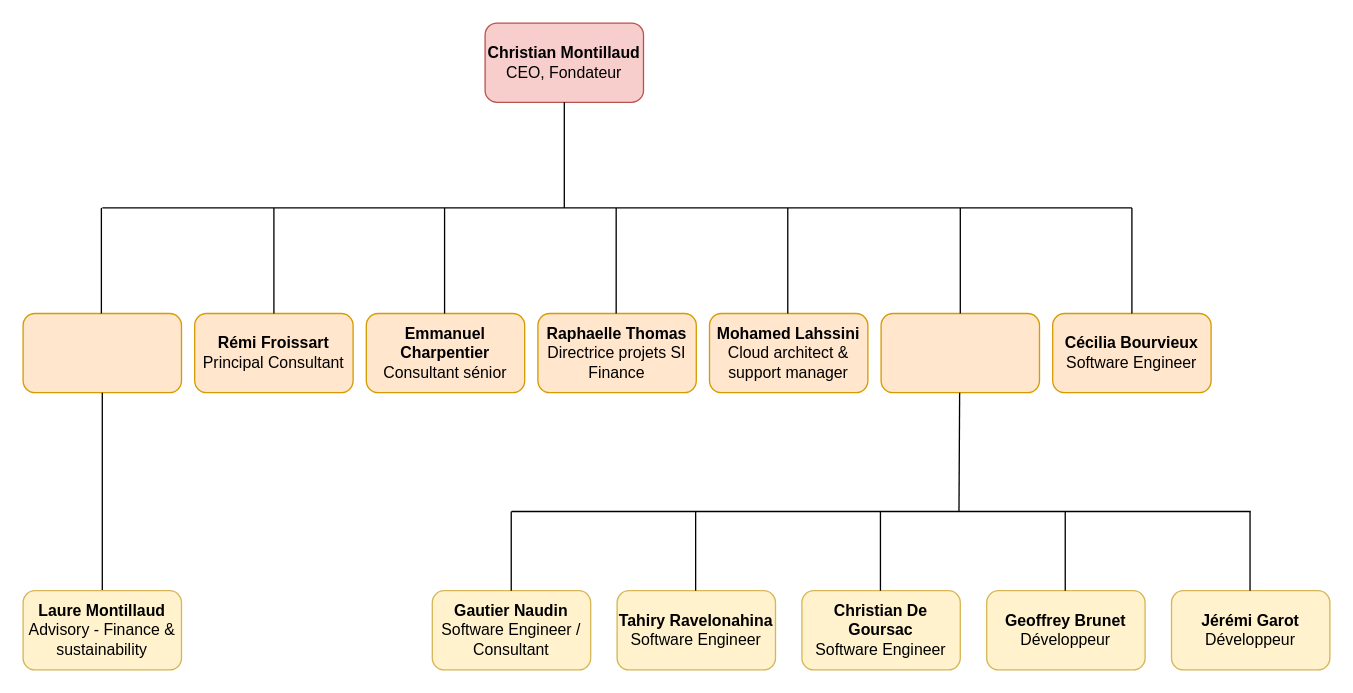
The diagram is 1353 pixels wide and 693 high, and some of its shapes have lost their labels. The box of each missing label's shape, as (x1, y1, x2, y2) in pixels:
Diane Couturier Director advisory - Finance & sustainability: (22, 312, 182, 393)
Gaël Roustan CTO: (880, 312, 1040, 393)
